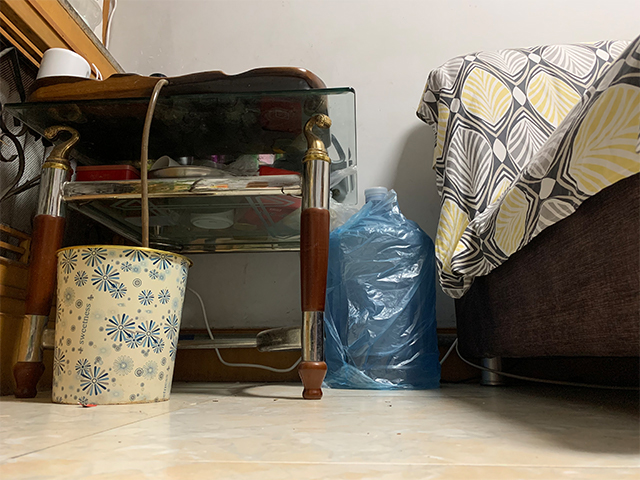sofa: (414, 30, 640, 390)
table: (1, 66, 362, 398)
trashcan: (50, 245, 192, 406)
wire: (186, 285, 301, 373)
